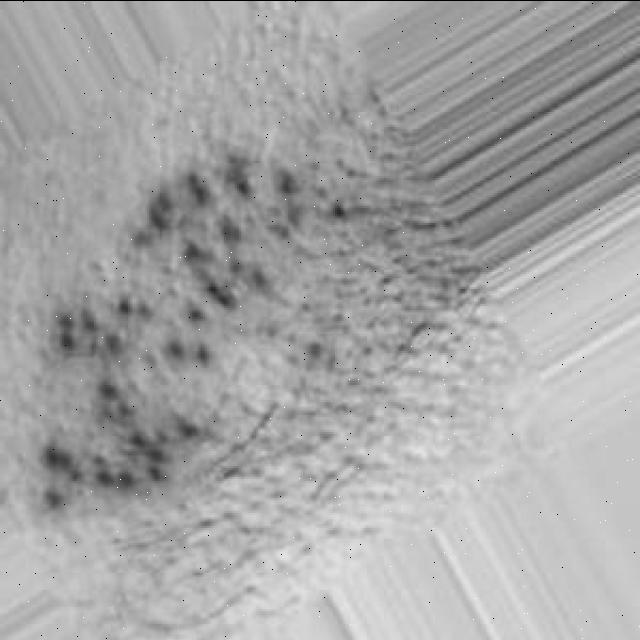Shingles: (38, 157, 312, 512)
